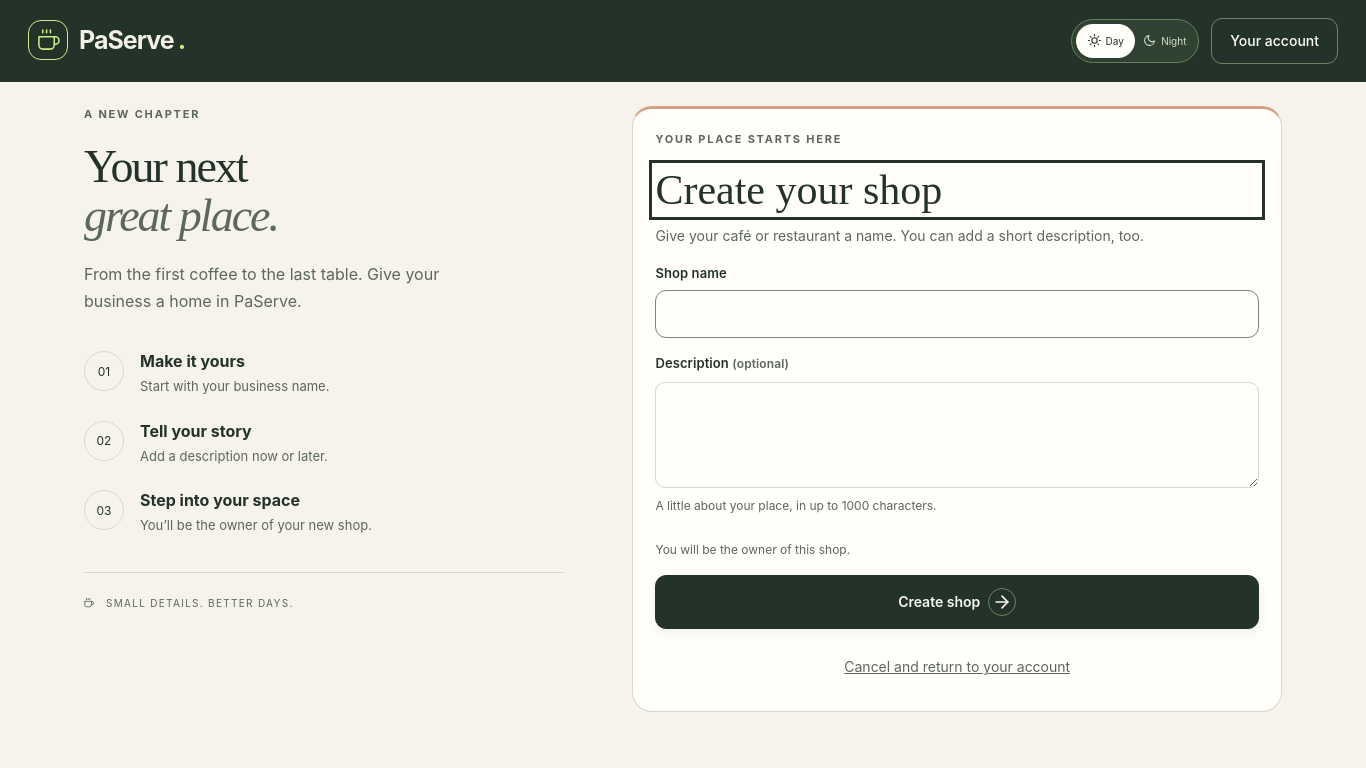
Test: preserves entered information after a failure and allows correction
The image size is (1366, 768).
Type "Café North" into the field labelled "Shop name" at (957, 314), box [655,290,1259,338]
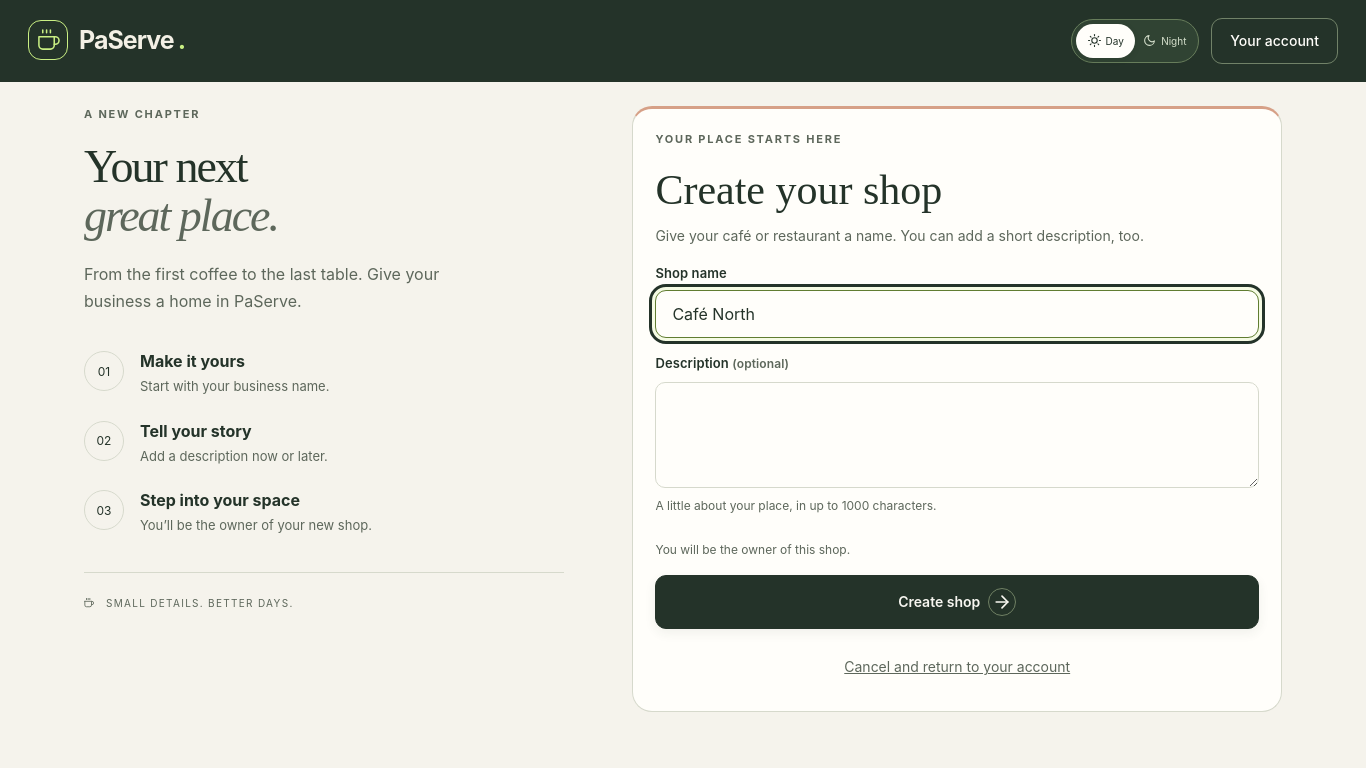
Click the button "Create shop" at (957, 602), box [655,575,1259,629]
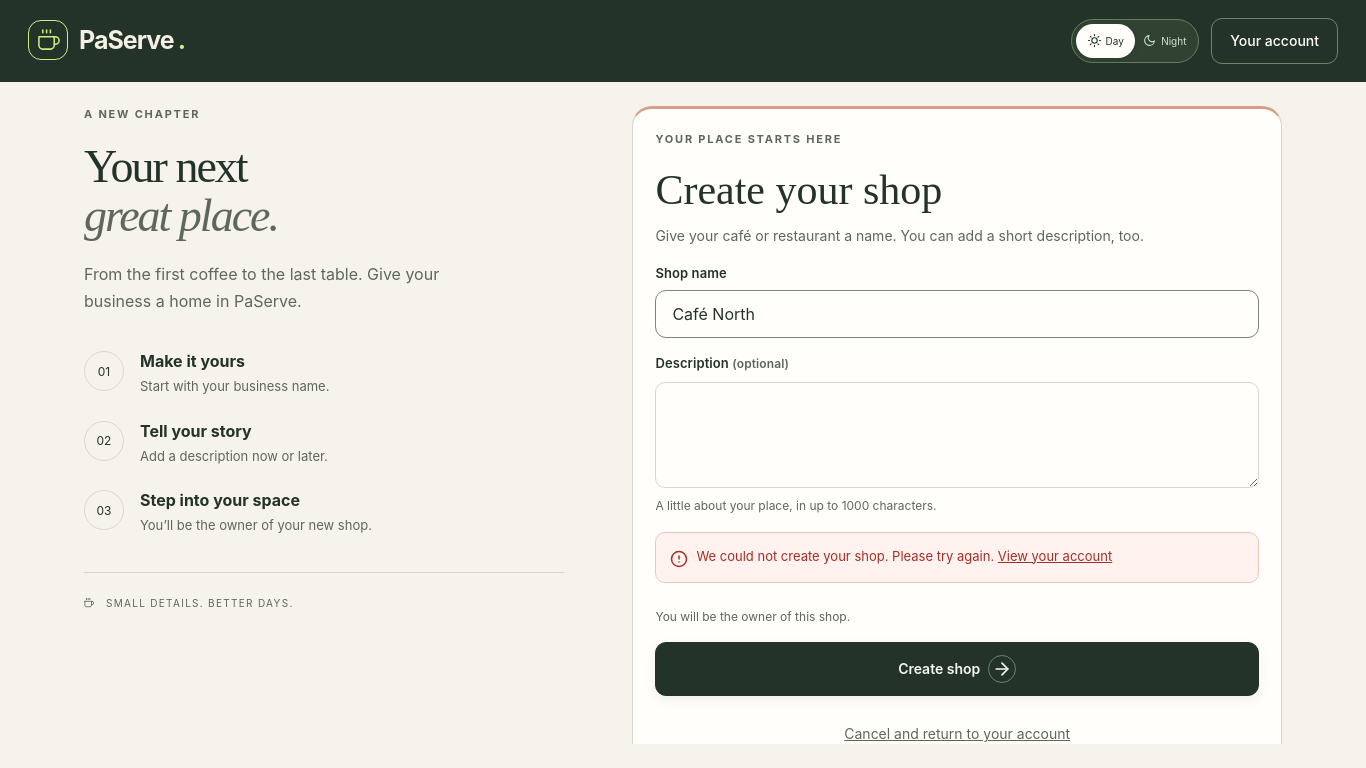
Expected: the button "Create shop" is enabled, [655,642,1259,696]
Expected: the message shows "We could not create your shop.", [696,548,994,564]
